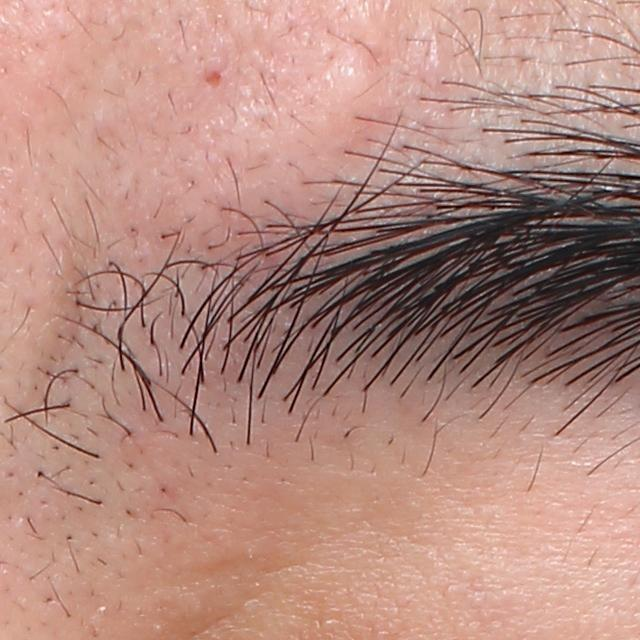hypertrophic_scar: (291, 32, 418, 146)
